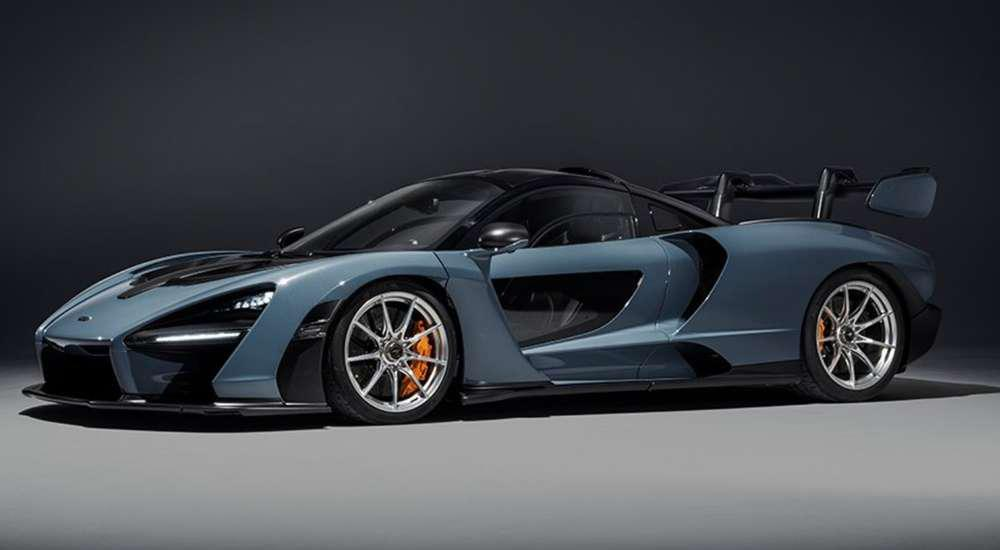car: (25, 136, 963, 450)
